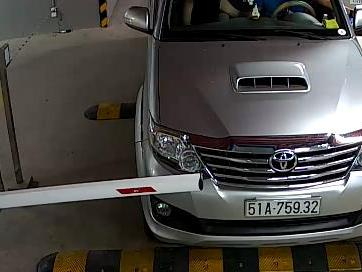number: (244, 198, 323, 216)
